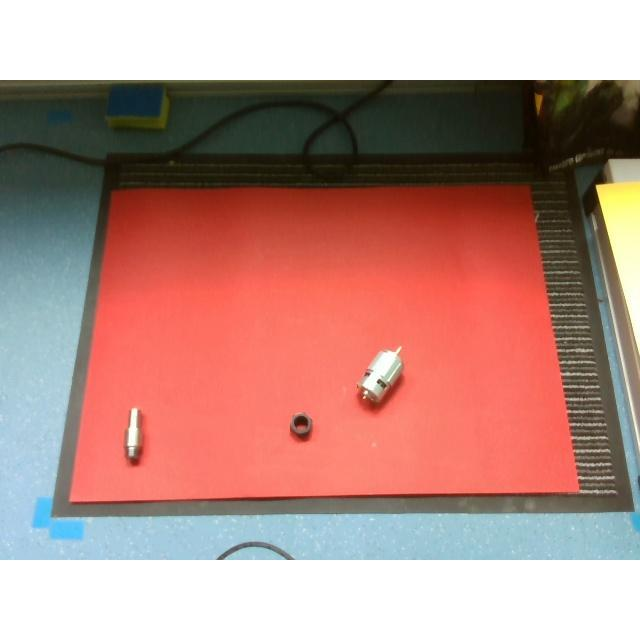Axis2: (124, 408, 140, 464)
M20: (288, 414, 312, 438)
Motor2: (358, 346, 402, 402)
